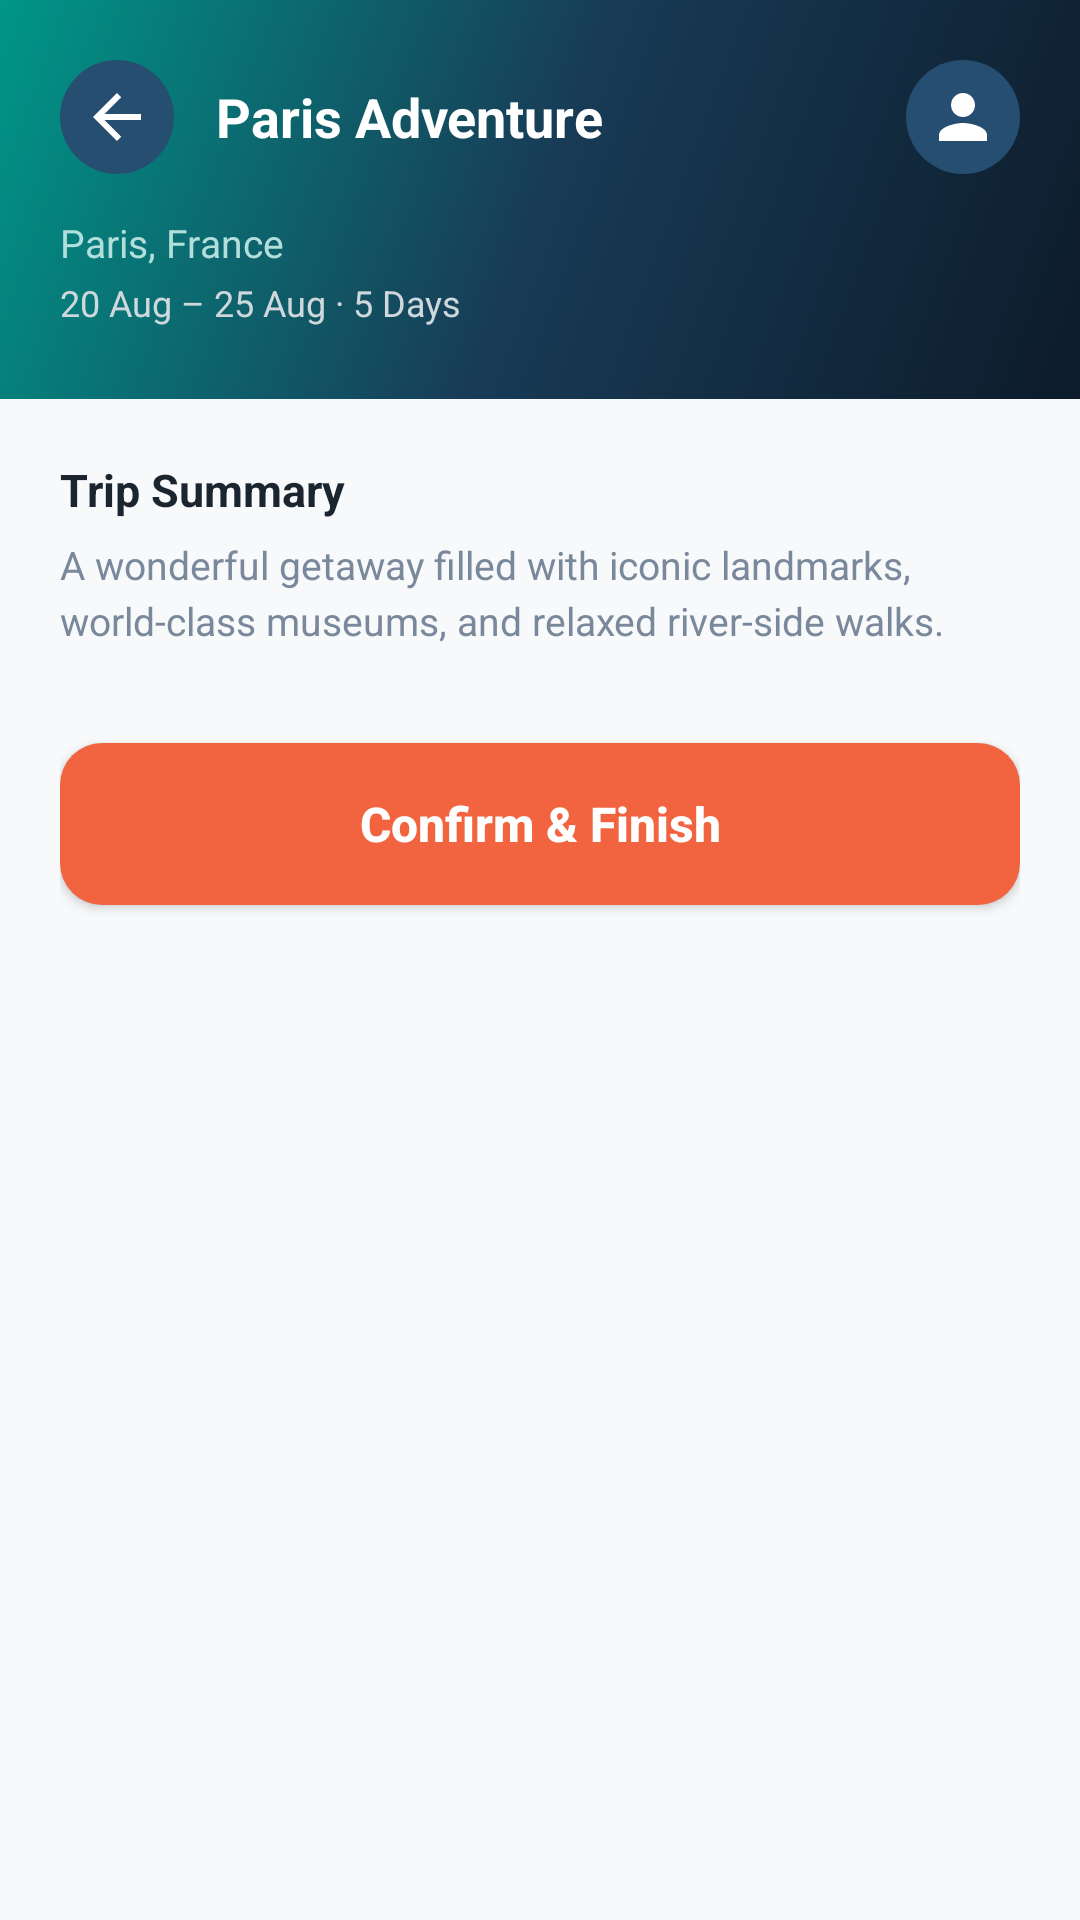

Locate icon controls on the screen. Image size 1080px×1920px, boxes as bbox(x1, y1, x2, y2).
Back: bbox(60, 60, 174, 174)
Profile: bbox(906, 60, 1020, 174)
